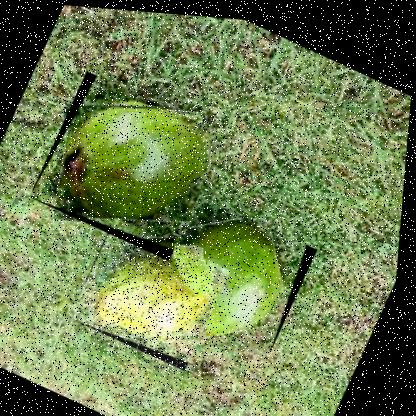guava: (28, 65, 231, 261), (150, 189, 324, 360), (70, 211, 237, 370)
